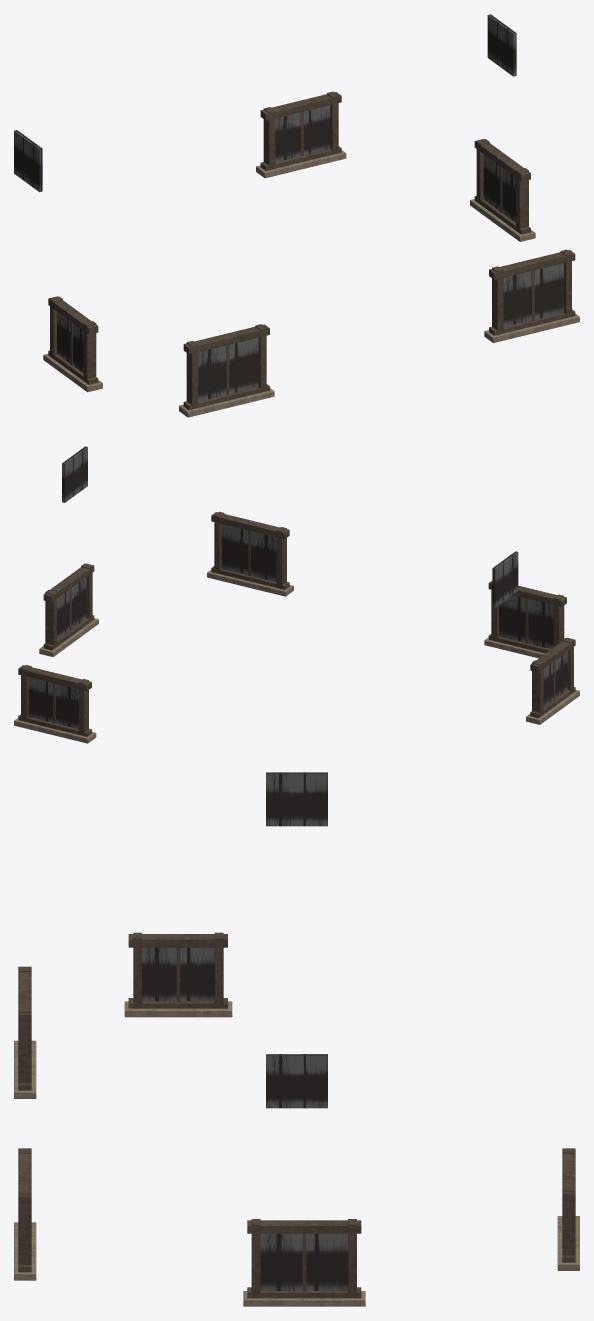
File: BW_Farmhouse01_Windows.fbx
3 renders of one model, top to bottom at view 1: azimuth 30°, elevation 25°; view 2: azimuth 150°, elevation 25°; view 3: azimuth 270°, elevation 25°, orthographic. The views are drawn at different scales.
Parts seen in each view (by area): view 1: BW_Farmhouse01_Windows; view 2: BW_Farmhouse01_Windows; view 3: BW_Farmhouse01_Windows.
Part boxes in pixels (box(x1,y1,x2,y2)): BW_Farmhouse01_Windows: box(14, 14, 579, 417); BW_Farmhouse01_Windows: box(14, 446, 579, 743); BW_Farmhouse01_Windows: box(14, 772, 579, 1306).
Bounding box in the file's own units: 9.44 × 3.7 × 7.64.
